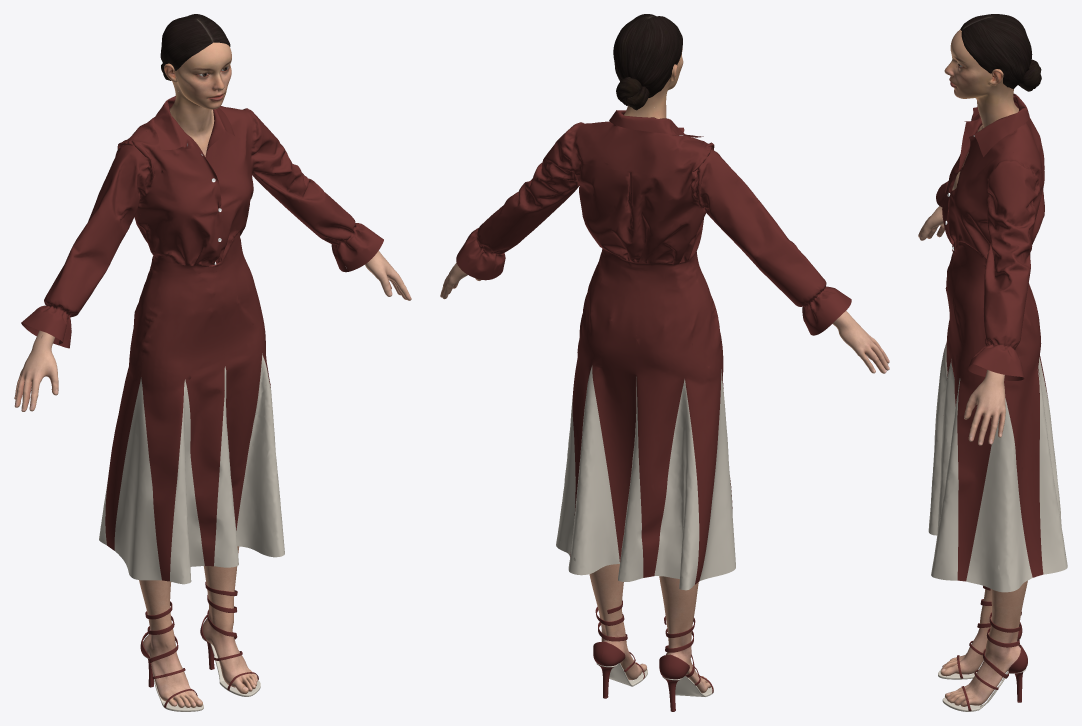
3 renders of one model, left to right at view 1: azimuth 30°, elevation 25°; view 2: azimuth 150°, elevation 25°; view 3: azimuth 270°, elevation 25°, orthographic.
Visible parts, largest first — view 1: Cloth, Avatar; view 2: Cloth, Avatar; view 3: Cloth, Avatar.
Part boxes in pixels (x1=…): Cloth: x1=21, y1=96, x2=383, y2=584; Avatar: x1=14, y1=14, x2=411, y2=711; Cloth: x1=456, y1=110, x2=851, y2=590; Avatar: x1=440, y1=14, x2=889, y2=711; Cloth: x1=928, y1=93, x2=1067, y2=592; Avatar: x1=918, y1=14, x2=1041, y2=711.
Size of the model in its own units: 1.08 by 1.66 by 0.3354.
17 materials, 11 textured.
